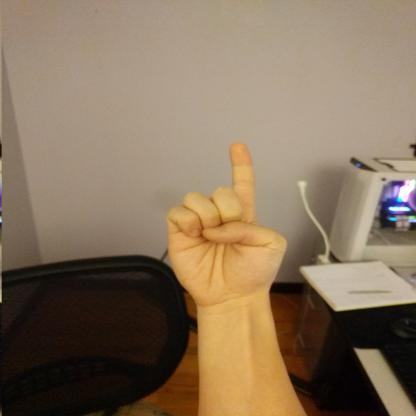D: (162, 140, 291, 314)
